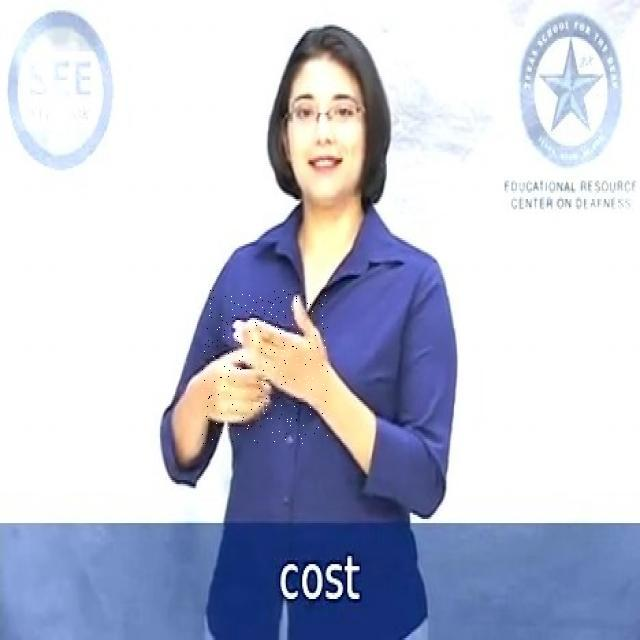cost: (202, 290, 328, 444)
